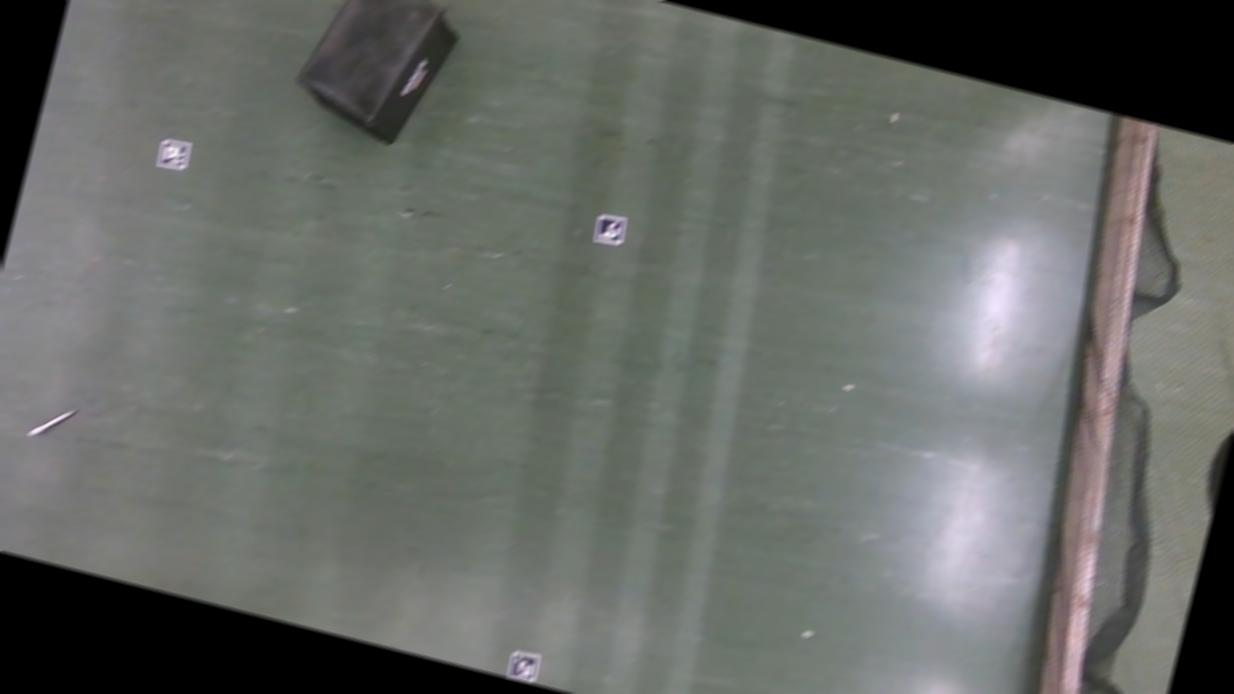probes: (23, 398, 74, 445)
rako: (284, 0, 473, 156)
